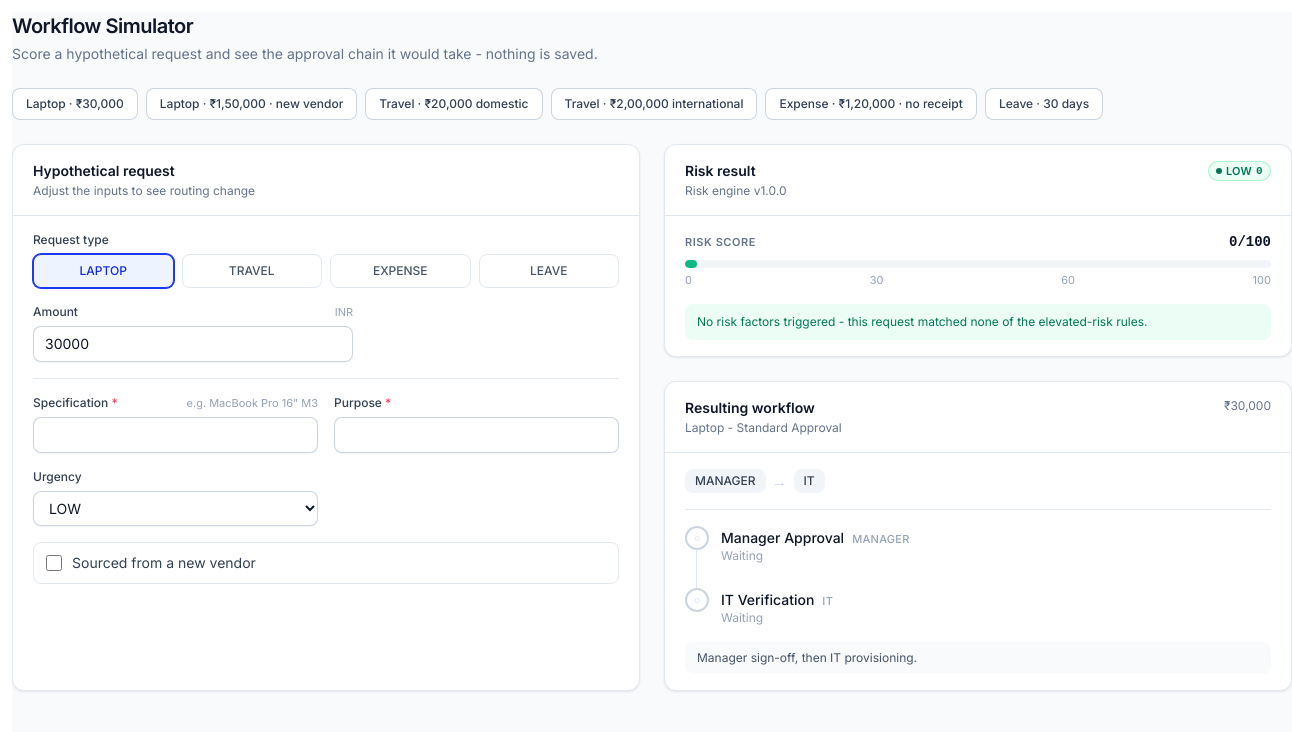
Test: Workflow simulator › applies a preset and re-runs the simulation with its values
The width and height of the screenshot is (1292, 732).
What coordinates should you click on to do the following:
click the button "Laptop · ₹1,50,000 · new vendor"
I would click on:
 (252, 104)
Its box is [146,88,357,120].
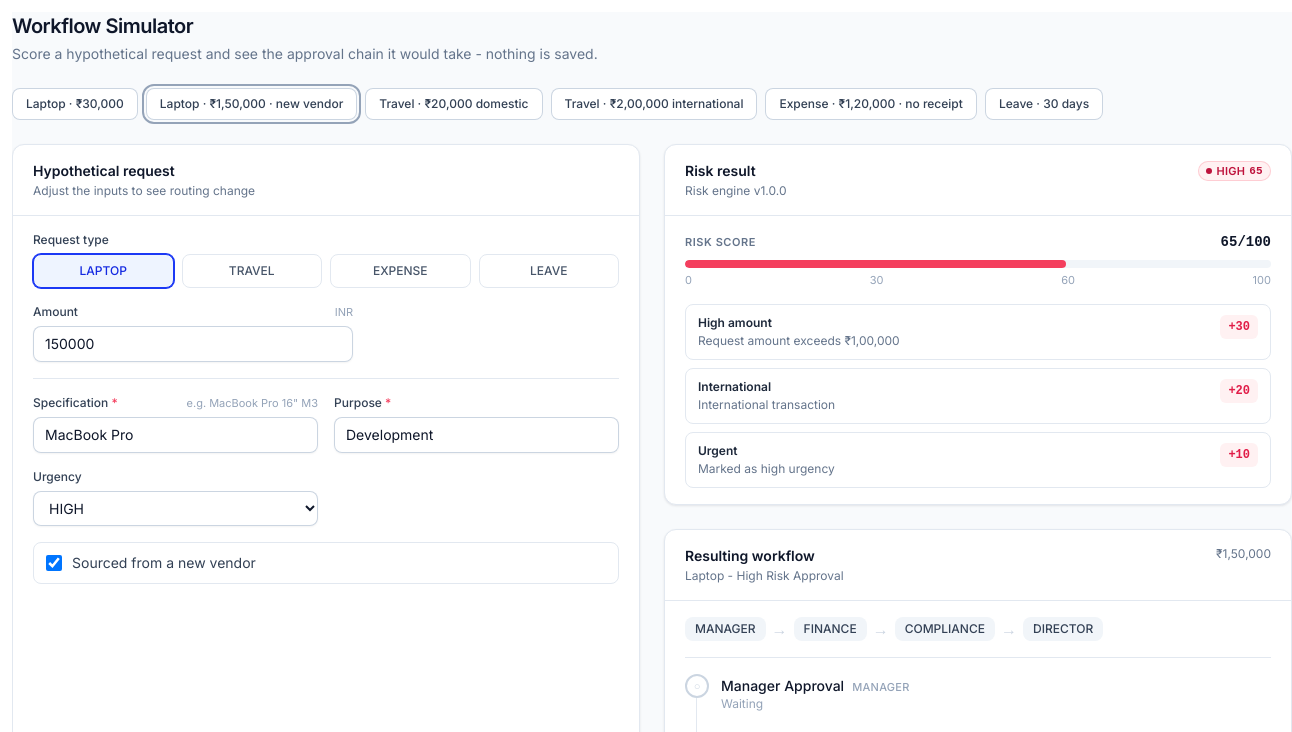
Check: the text "HIGH" is shown, box [1216,164,1245,178]
